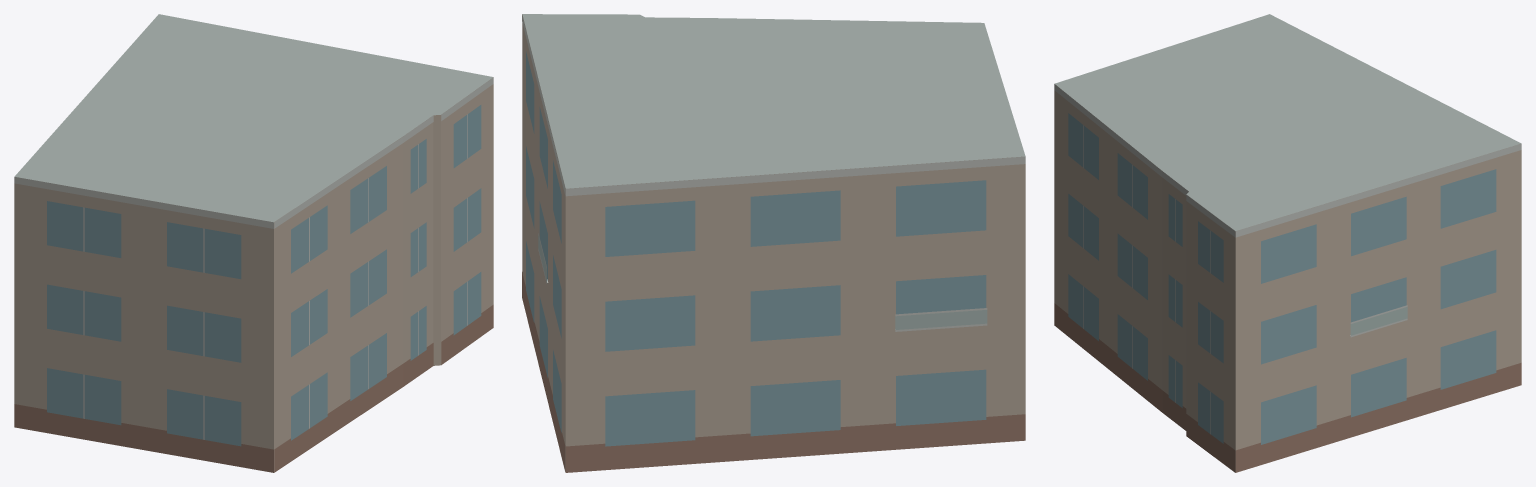
File: survey-upis-32691547.glb
The picture shows the model from 3 angles, left to right: view 1: azimuth 30°, elevation 25°; view 2: azimuth 150°, elevation 25°; view 3: azimuth 270°, elevation 25°; orthographic projection. The views are drawn at different scales.
Visible parts, largest first — view 1: survey-upis-32691547.tmp; view 2: survey-upis-32691547.tmp; view 3: survey-upis-32691547.tmp.
Boxes of the visible parts, x1,y1,x2,y2 form: survey-upis-32691547.tmp: [14, 14, 493, 472]; survey-upis-32691547.tmp: [522, 14, 1025, 472]; survey-upis-32691547.tmp: [1054, 14, 1521, 472].
Bounding box in the file's own units: 17.65 × 9.15 × 16.04.
